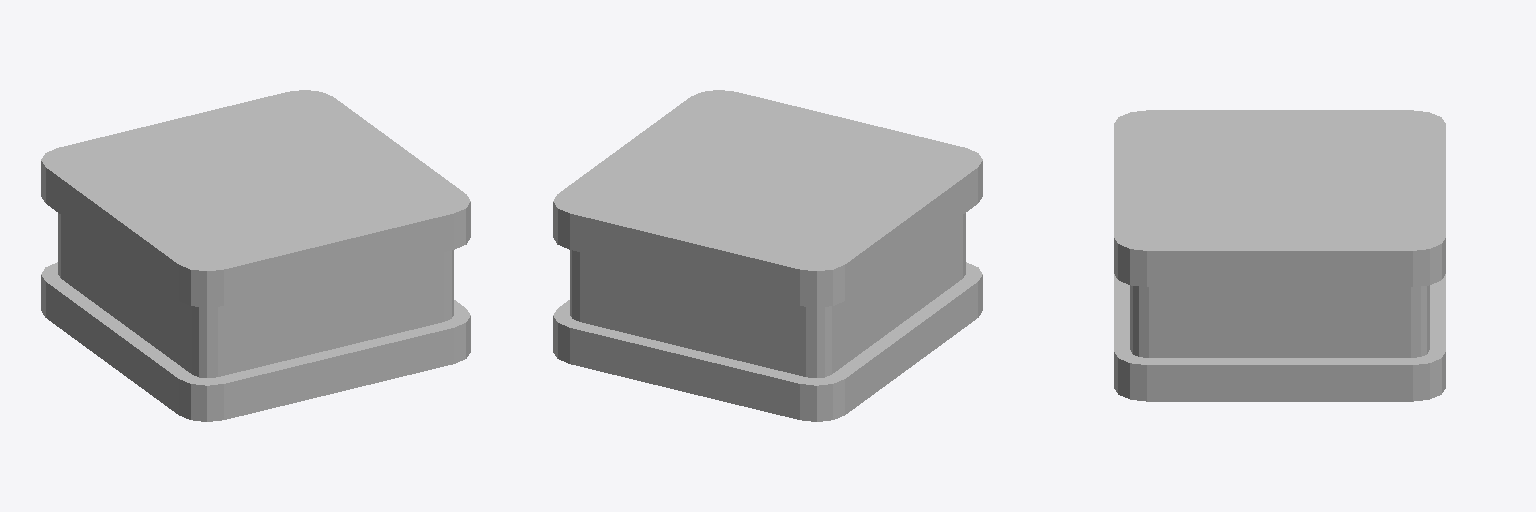
The model's file is blockMovingLarge.obj.
3 views of the same model, side by side, from view 1: azimuth 30°, elevation 25°; view 2: azimuth 150°, elevation 25°; view 3: azimuth 270°, elevation 25° (orthographic).
Visible parts, largest first — view 1: blockMovingLarge; view 2: blockMovingLarge; view 3: blockMovingLarge.
Part boxes in pixels (x1,y1,x2,y2): blockMovingLarge: (41, 90, 470, 421); blockMovingLarge: (553, 90, 982, 421); blockMovingLarge: (1114, 110, 1445, 401).
Size of the model in its own units: 1 by 0.5 by 1.